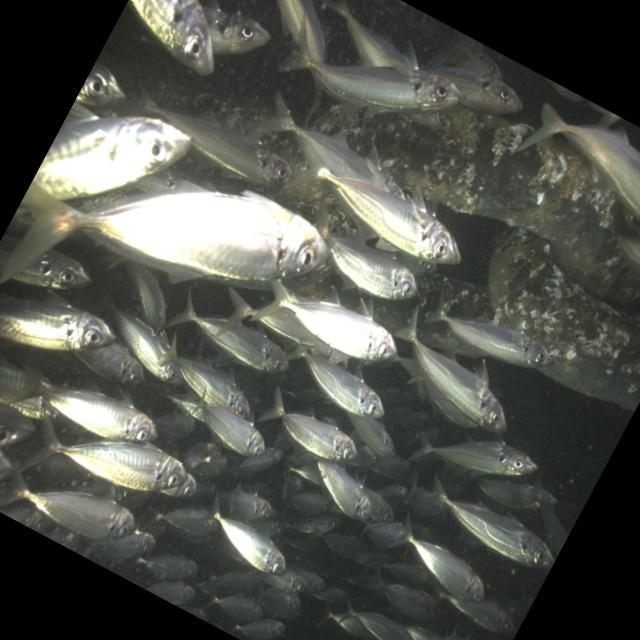ChainLink: (322, 104, 623, 295), (488, 231, 640, 411)
